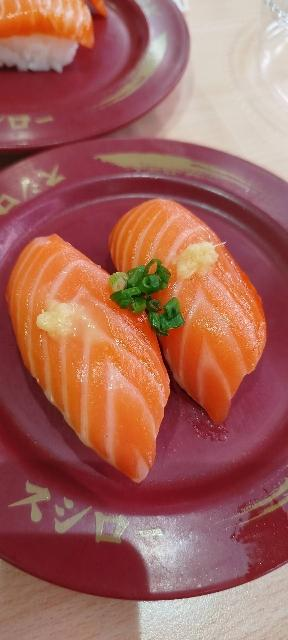janred: (0, 147, 285, 587), (0, 2, 221, 151)
